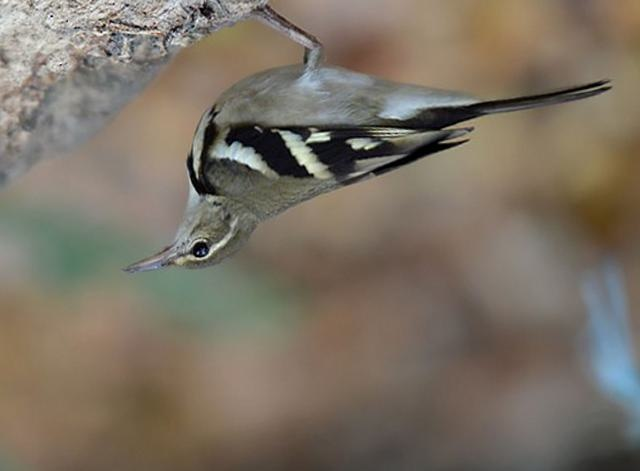wagtail: (116, 6, 609, 291)
